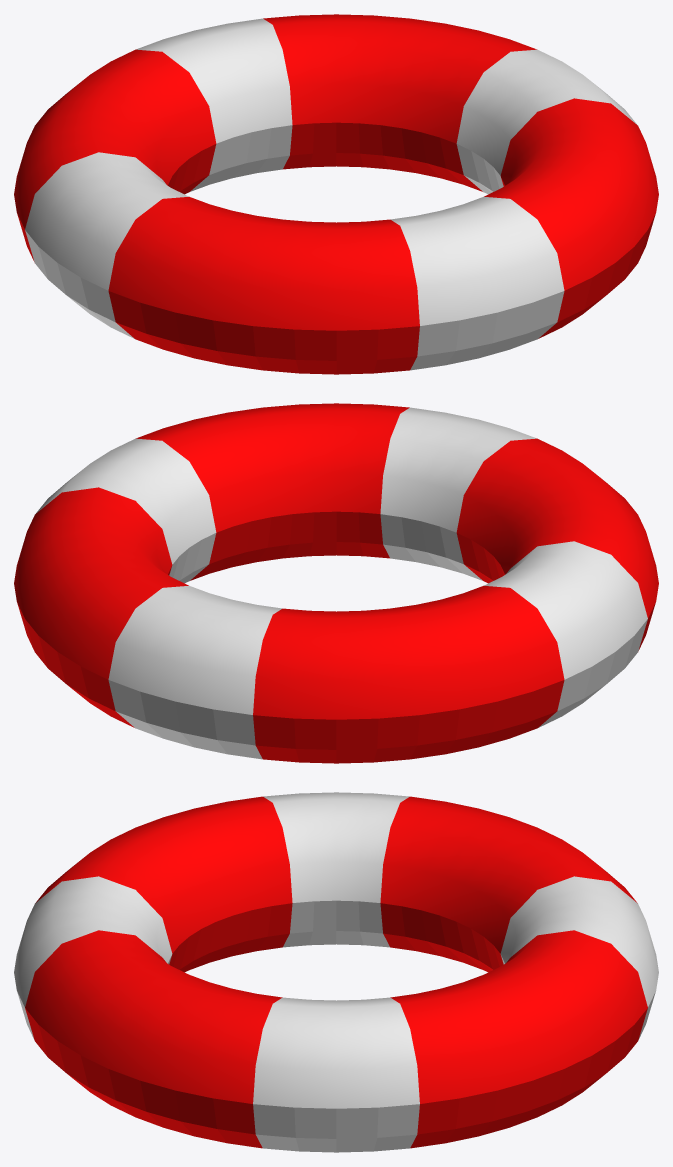
Rendered from lifebuoy.fbx.
The picture shows the model from 3 angles, top to bottom: view 1: azimuth 30°, elevation 25°; view 2: azimuth 150°, elevation 25°; view 3: azimuth 270°, elevation 25°; orthographic projection.
Visible parts, largest first — view 1: Torus; view 2: Torus; view 3: Torus.
Boxes of the visible parts, x1,y1,x2,y2 form: Torus: (14,14,658,374); Torus: (14,403,658,763); Torus: (14,792,658,1152).
Size of the model in its own units: 262 by 62 by 262.
